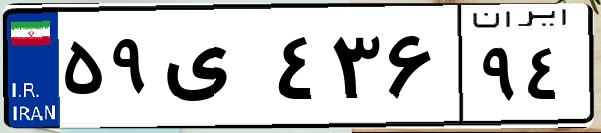3: (330, 28, 385, 110)
4: (270, 28, 330, 110), (525, 38, 570, 115)
5: (57, 26, 110, 100)
6: (385, 28, 445, 110)
9: (475, 38, 525, 113), (110, 28, 158, 98)
ی: (158, 20, 270, 120)
